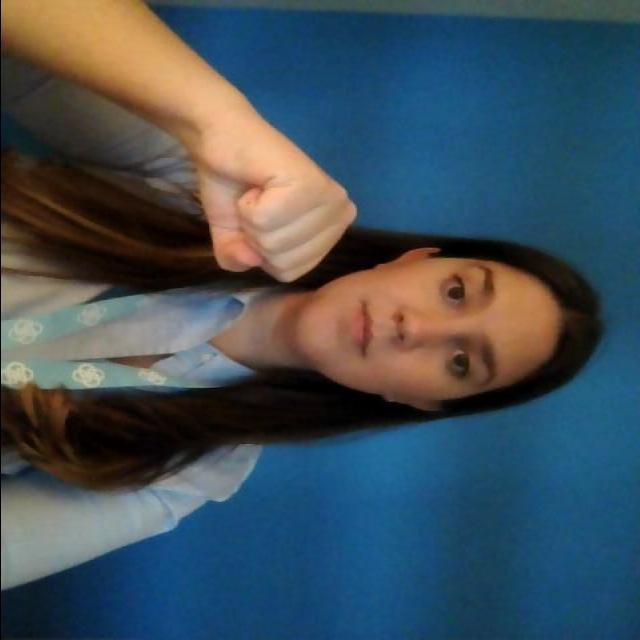Rock: (198, 138, 362, 290)
